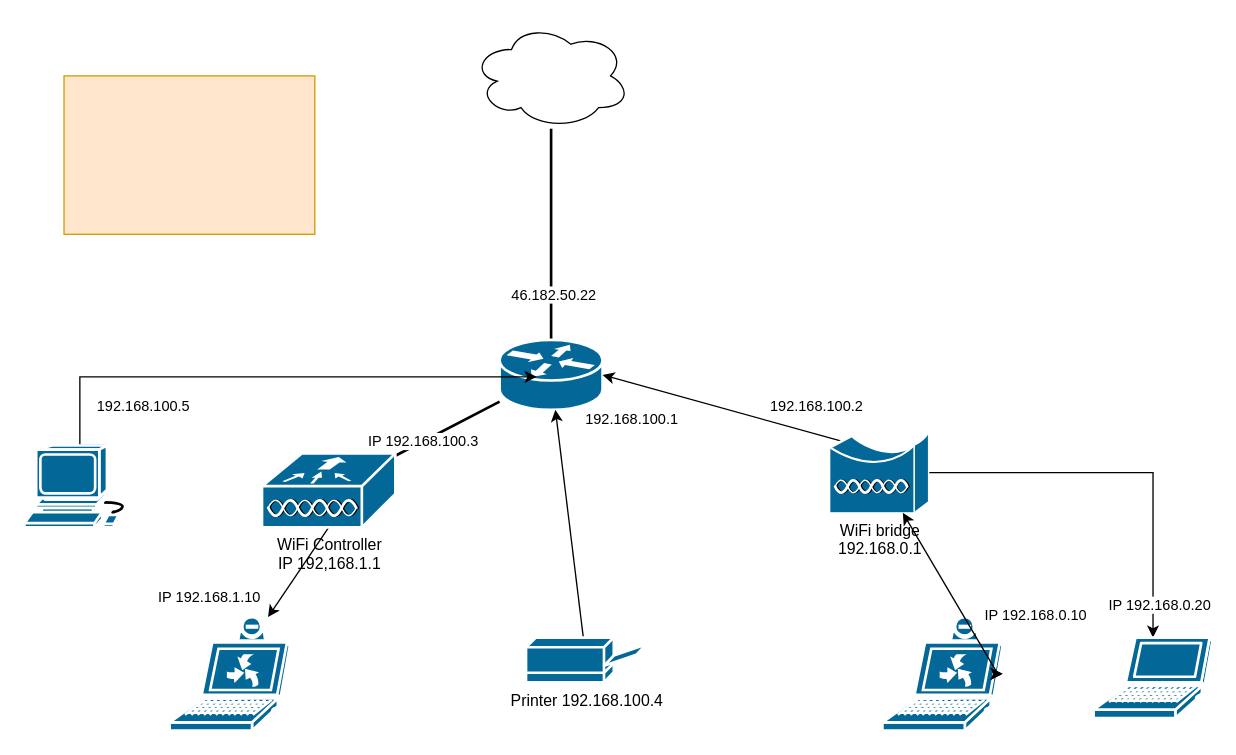
Some shapes in this 1236 by 755 pixel diagram are drawn without their labels. Each missing label, with the centre of its shape:
"Internet" goes at [550,75].
"Моя домашняя сеть" goes at [189,154].
